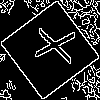X: (25, 25, 75, 65)
